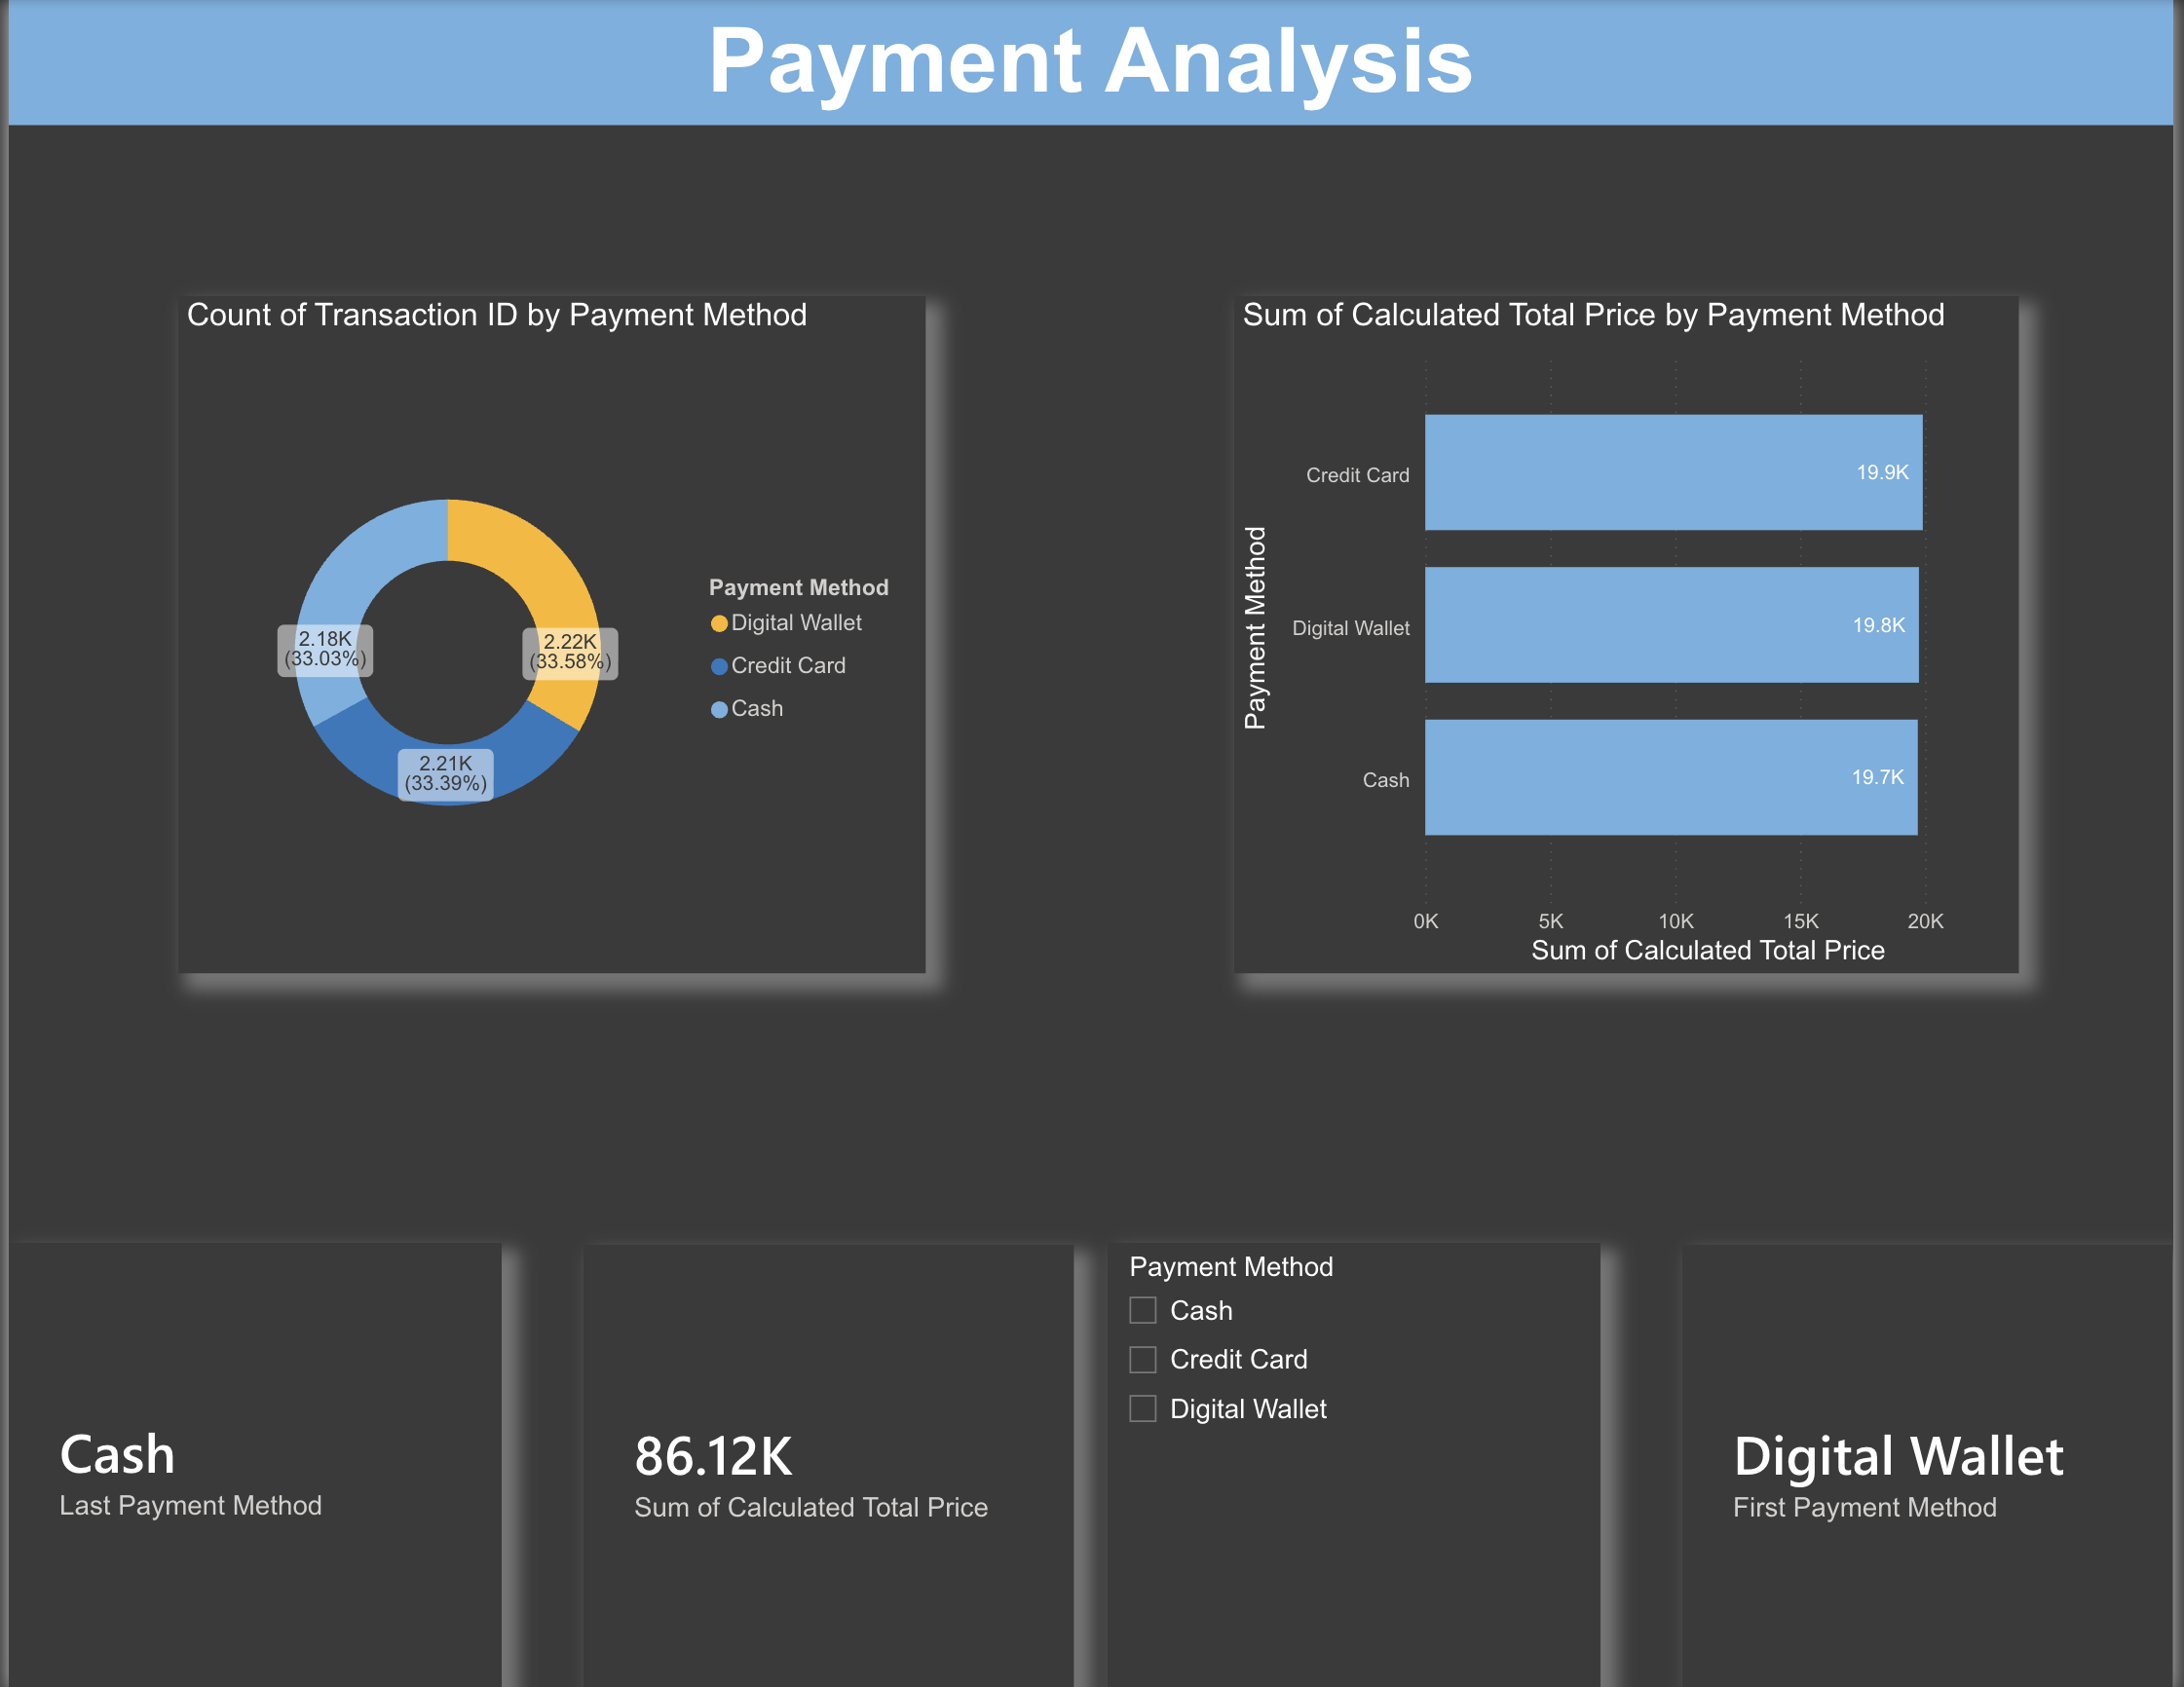

The dashboard page shown, as its layout file describes it:
{"tool":"powerbi","page":{"name":"Payment Analysis","canvas":[1280,1000],"ordinal":3},"visuals":[{"type":"donutChart","fields":{"Y":["CountNonNull(dirty_cafe_sales.Transaction ID)"],"Category":["dirty_cafe_sales.Payment Method"]},"box":[100.2,175.6,441.9,400.7],"z":0},{"type":"barChart","fields":{"Category":["dirty_cafe_sales.Payment Method"],"Y":["Sum(dirty_cafe_sales.Calculated Total Price)"]},"box":[724.5,175.6,463.8,400.7],"z":1000},{"type":"textbox","box":[0,0,1280.3,74.1],"z":2000},{"type":"cardVisual","fields":{"Data":["Max(dirty_cafe_sales.Payment Method)"]},"box":[0,735.3,291.6,264.7],"z":3000},{"type":"cardVisual","fields":{"Data":["Sum(dirty_cafe_sales.Calculated Total Price)"]},"box":[340,736,290,264],"z":4000},{"type":"slicer","fields":{"Values":["dirty_cafe_sales.Payment Method"]},"box":[650,735.3,291.6,264.7],"z":5000},{"type":"cardVisual","fields":{"Data":["Min(dirty_cafe_sales.Payment Method)"]},"box":[990,736,290,264],"z":6000}]}

Visuals, with their boxes in screenshot pixels (x1, y1, x2, y2), scaled from the page's 1280x1000 canvas onto the 2184x1687 screenshot:
donutChart - CountNonNull(dirty_cafe_sales.Transaction ID) x dirty_cafe_sales.Payment Method: pyautogui.locateOnScreen(171, 296, 925, 972)
barChart - dirty_cafe_sales.Payment Method x Sum(dirty_cafe_sales.Calculated Total Price): pyautogui.locateOnScreen(1236, 296, 2027, 972)
textbox: pyautogui.locateOnScreen(0, 0, 2183, 125)
cardVisual - Max(dirty_cafe_sales.Payment Method): pyautogui.locateOnScreen(0, 1241, 498, 1686)
cardVisual - Sum(dirty_cafe_sales.Calculated Total Price): pyautogui.locateOnScreen(581, 1242, 1074, 1686)
slicer - dirty_cafe_sales.Payment Method: pyautogui.locateOnScreen(1110, 1241, 1606, 1686)
cardVisual - Min(dirty_cafe_sales.Payment Method): pyautogui.locateOnScreen(1689, 1242, 2183, 1686)
